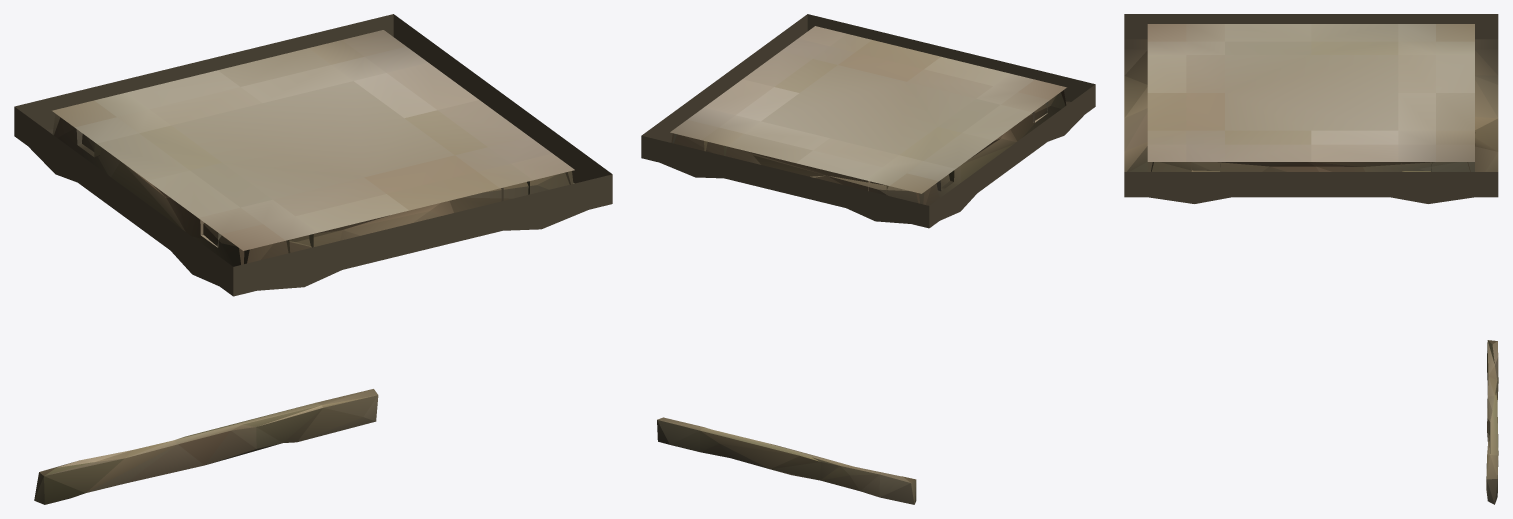
The model's file is Base_UG-3Way.fbx.
3 renders of one model, left to right at view 1: azimuth 30°, elevation 25°; view 2: azimuth 150°, elevation 25°; view 3: azimuth 270°, elevation 25°, orthographic. The views are drawn at different scales.
Visible parts, largest first — view 1: Base_UG-3Way; view 2: Base_UG-3Way; view 3: Base_UG-3Way.
Part boxes in pixels (x1,y1,x2,y2): Base_UG-3Way: (14, 14, 612, 504); Base_UG-3Way: (641, 14, 1095, 504); Base_UG-3Way: (1124, 14, 1498, 504).
Bounding box in the file's own units: 400 × 404 × 400.
